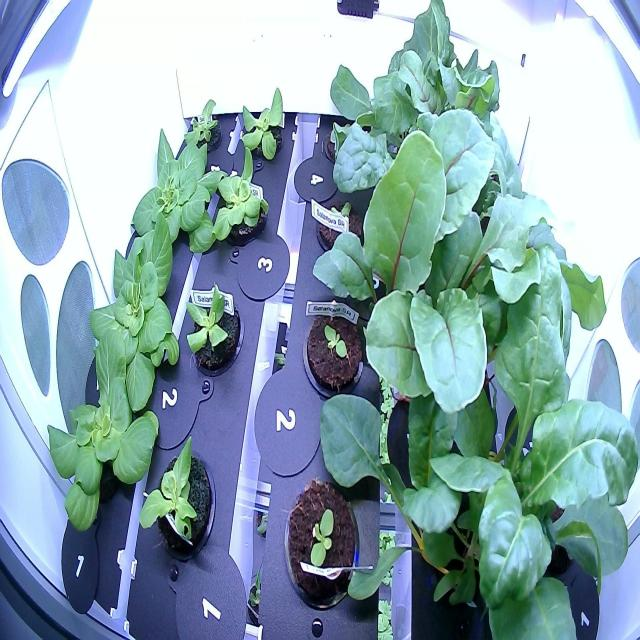germination: (277, 470, 367, 614), (298, 292, 371, 409), (305, 180, 377, 278)
young: (32, 328, 164, 542), (76, 205, 190, 418), (118, 123, 229, 276), (133, 425, 221, 572), (180, 266, 249, 392), (203, 147, 279, 256), (234, 70, 293, 186), (179, 82, 228, 162)
